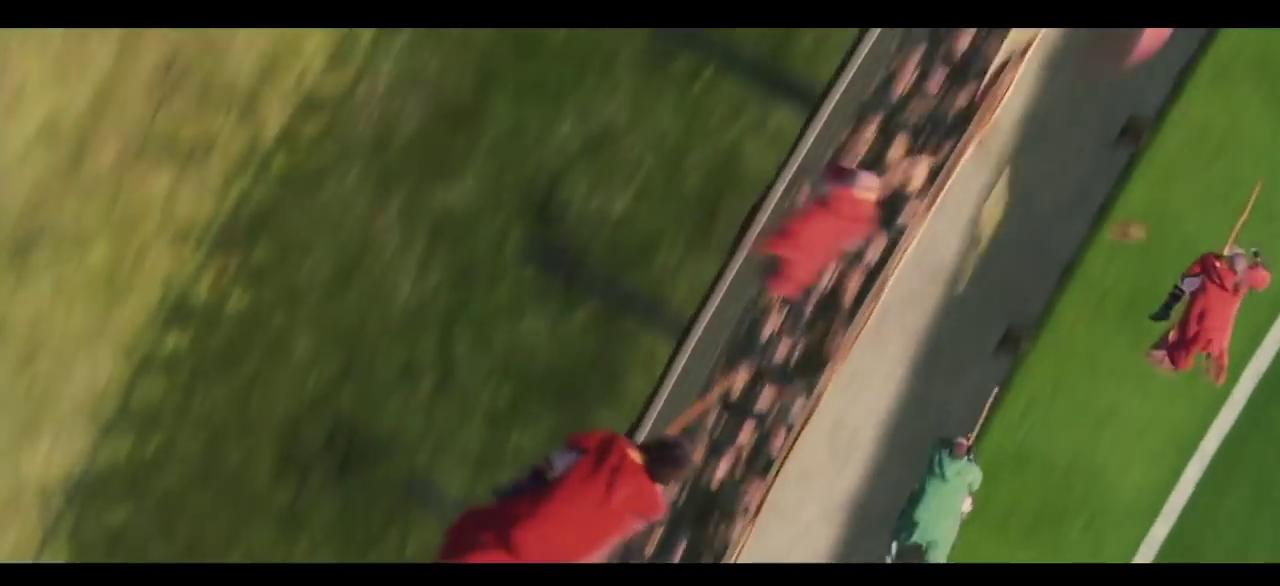quaffle: (1106, 219, 1148, 248)
